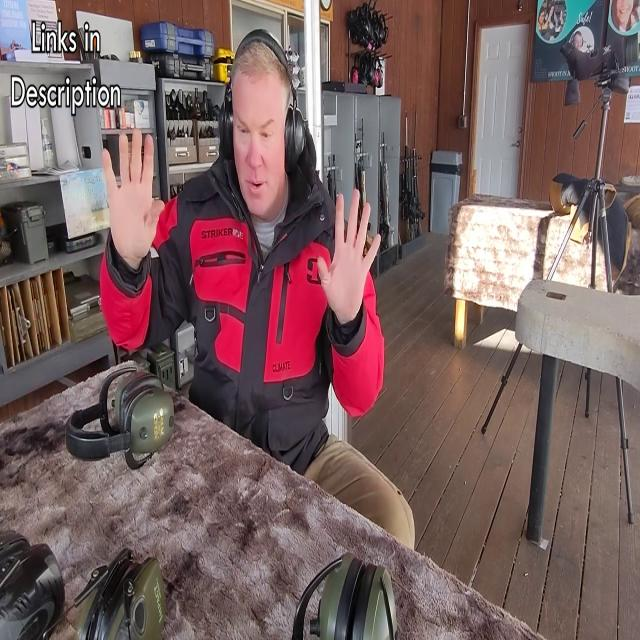earmuff: (281, 100, 307, 176), (215, 92, 237, 159)
